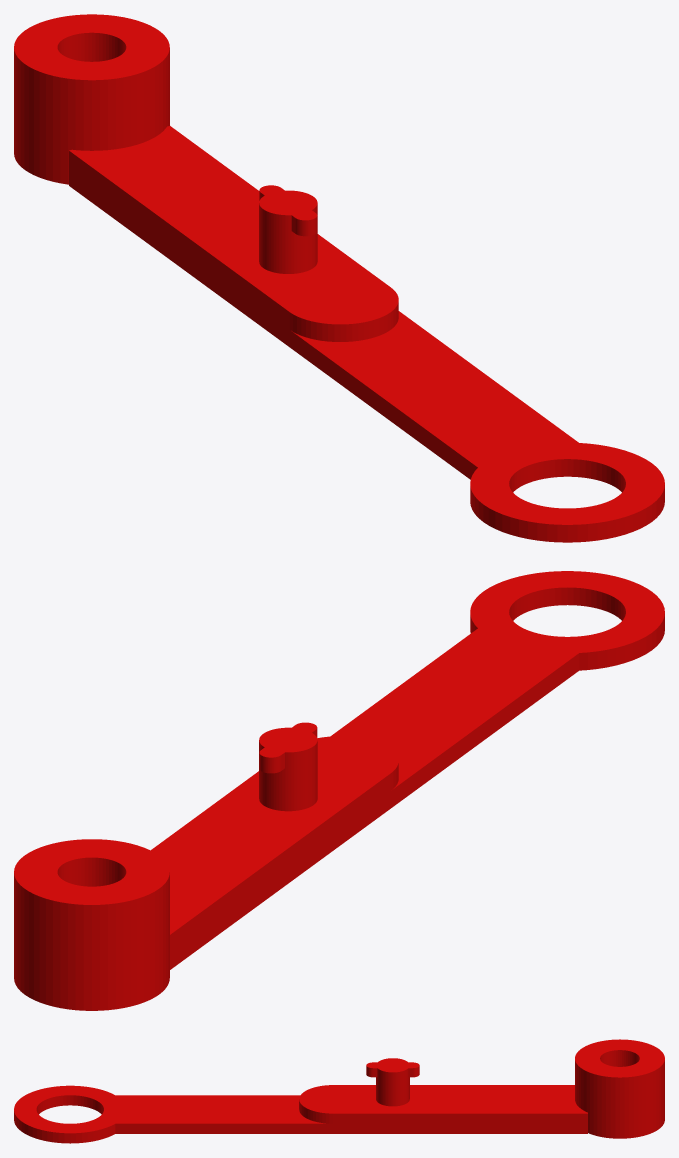
File: inks_2_PCBWay Community.001.dae
3 renders of one model, top to bottom at view 1: azimuth 30°, elevation 25°; view 2: azimuth 150°, elevation 25°; view 3: azimuth 270°, elevation 25°, orthographic. The views are drawn at different scales.
Visible parts, largest first — view 1: tmp_export_inks_2_PCBWay Community.001; view 2: tmp_export_inks_2_PCBWay Community.001; view 3: tmp_export_inks_2_PCBWay Community.001.
Part boxes in pixels (x1,y1,x2,y2): tmp_export_inks_2_PCBWay Community.001: (14, 14, 664, 542); tmp_export_inks_2_PCBWay Community.001: (14, 571, 664, 1010); tmp_export_inks_2_PCBWay Community.001: (14, 1039, 664, 1143).
Size of the model in its own units: 0.015 by 0.0867 by 0.009.
